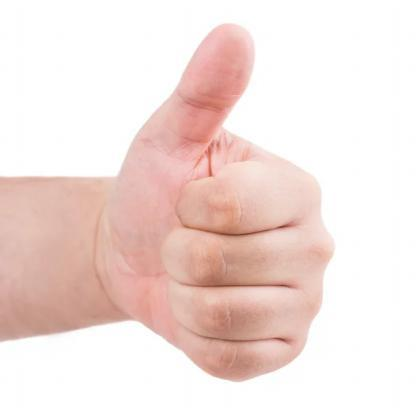thumb_up: (94, 17, 336, 385)
